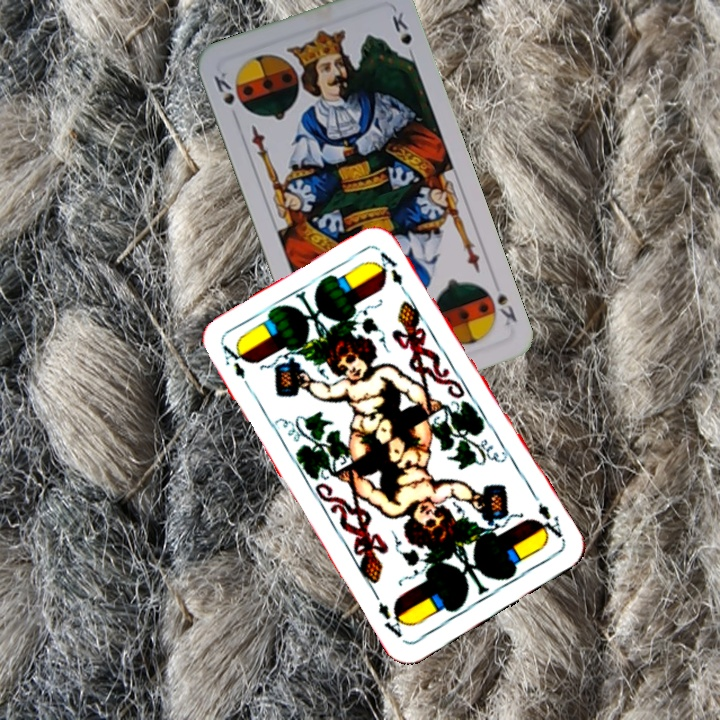EA: (218, 340, 255, 394), (531, 499, 567, 544)
SK: (488, 275, 520, 329), (209, 67, 237, 108)
